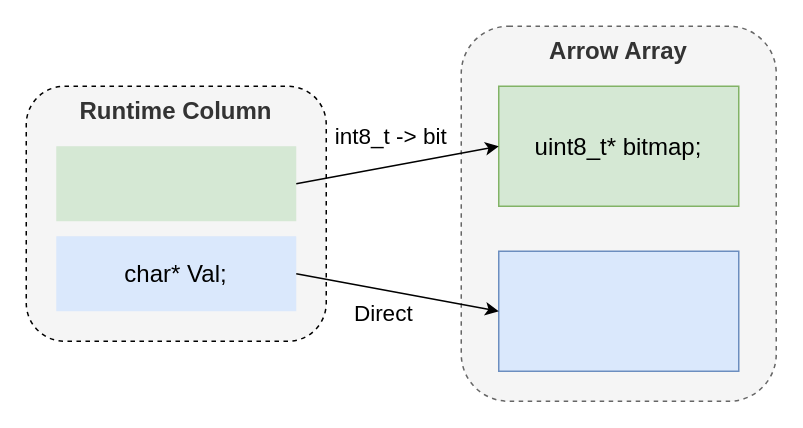
Some shapes in this 803 by 428 pixel diagram are drawn without their labels. The centre of each missing label's shape, as x and y in pixels:
"int8_t* NullVal;" belongs at pixel 176 183.
"void* dataBuffer;" belongs at pixel 618 310.
